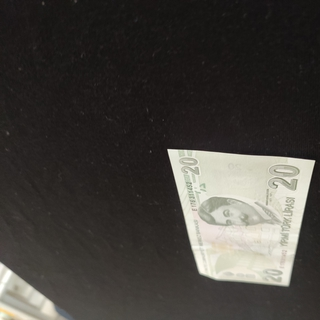20TLBack: (166, 147, 316, 288)
